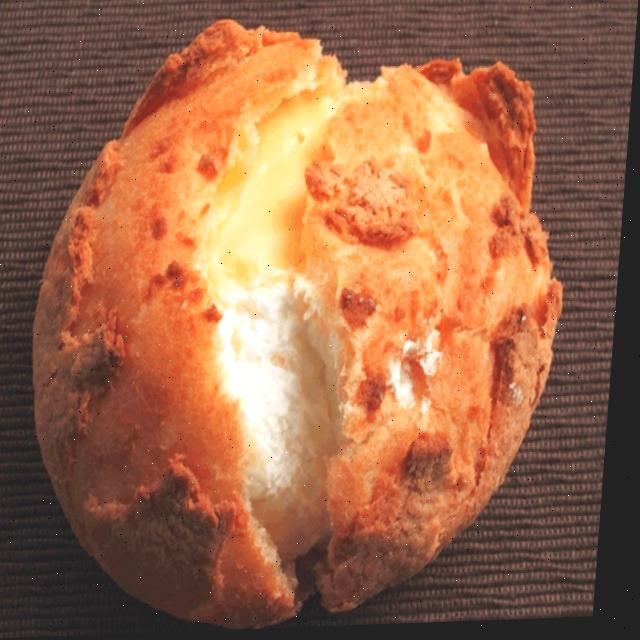炸货点心: (0, 0, 636, 638)
蛋糕甜品: (0, 0, 636, 638)
